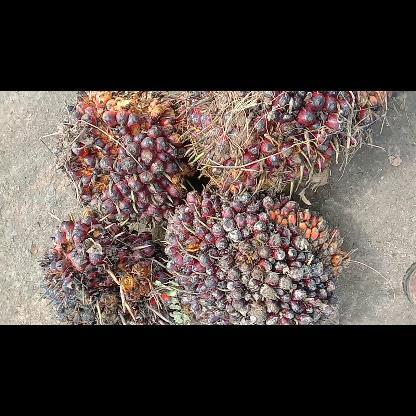Kurang masak: (158, 181, 352, 324), (171, 92, 395, 196)
TBS masak: (53, 91, 198, 229), (37, 212, 171, 324)
